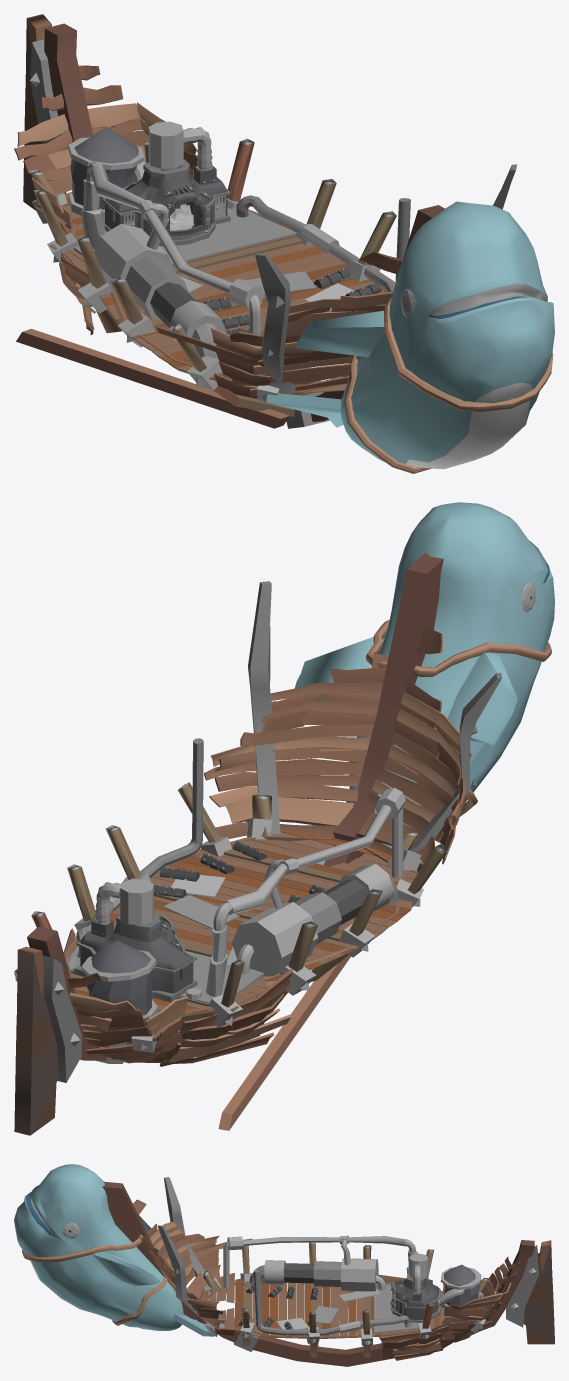
3 renders of one model, top to bottom at view 1: azimuth 30°, elevation 25°; view 2: azimuth 150°, elevation 25°; view 3: azimuth 270°, elevation 25°, orthographic. The views are drawn at different scales.
Visible parts, largest first — view 1: segment_3; view 2: segment_3; view 3: segment_3.
Part boxes in pixels (x1=…): segment_3: x1=14, y1=14, x2=554, y2=473; segment_3: x1=14, y1=502, x2=554, y2=1135; segment_3: x1=14, y1=1164, x2=554, y2=1366.
Size of the model in its own units: 29.6 by 34.76 by 87.79.
